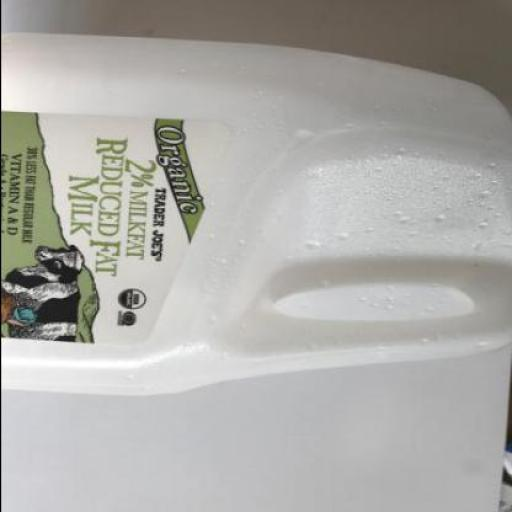plastic: (1, 34, 511, 398)
